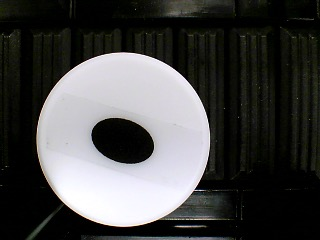BOHOEL: (35, 51, 211, 227)
